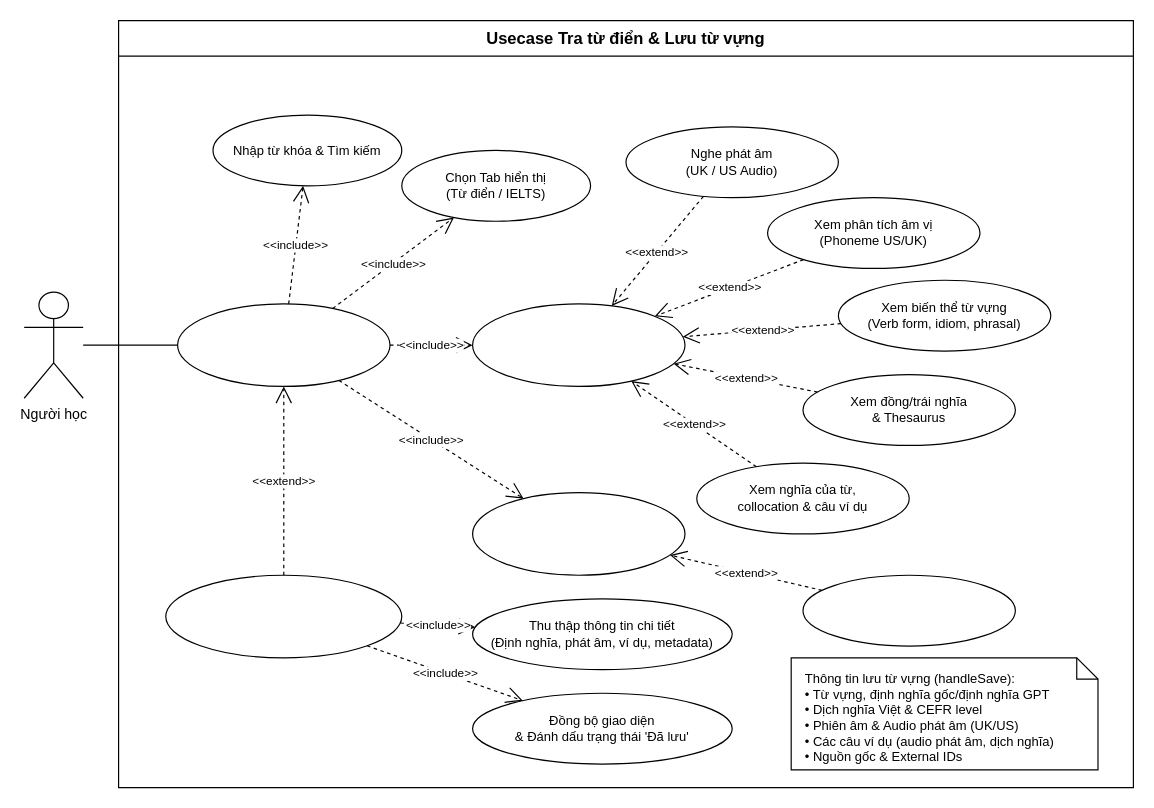
Some shapes in this 1154 by 808 pixel diagram are drawn without their labels. Each missing label, with the centre of its shape:
"Lưu từ vựng vào Sổ tay" belongs at (x=283, y=616).
"Tra cứu từ điển" belongs at (x=283, y=344).
"Xem chi tiết từ điển" belongs at (x=578, y=344).
"Xem ngữ cảnh IELTS & Bôi đậm từ khóa" belongs at (x=908, y=610).
"Xem tài liệu IELTS" belongs at (x=578, y=533).
